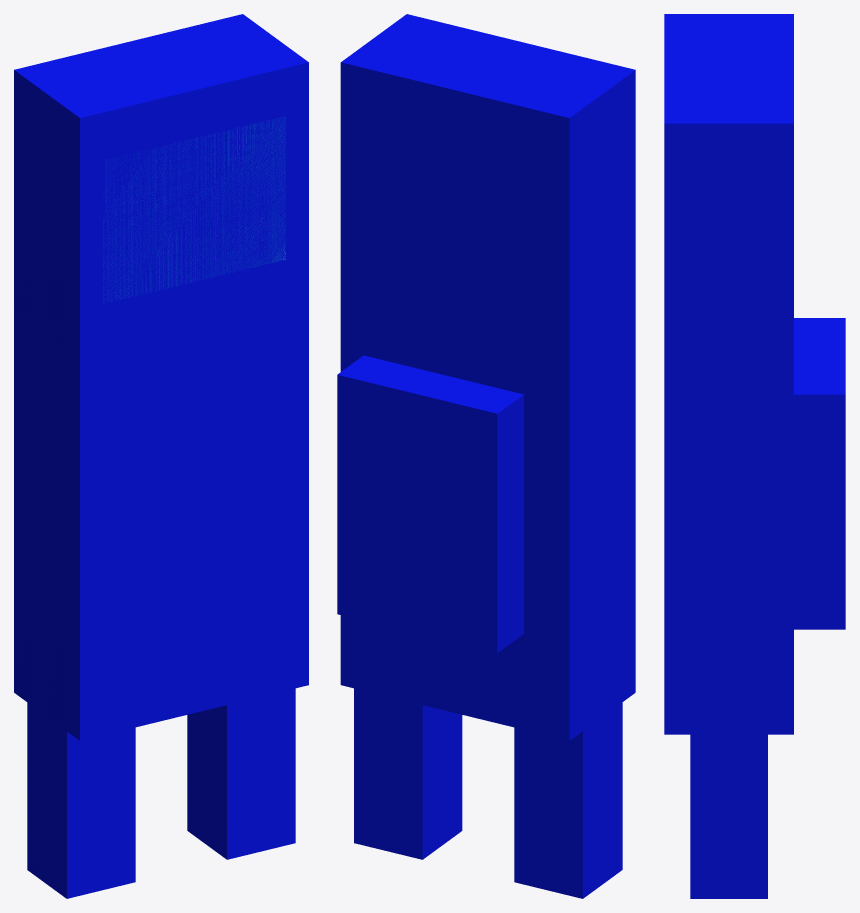
The model's file is Among Us Char(Blue).gltf.
The picture shows the model from 3 angles, left to right: view 1: azimuth 30°, elevation 25°; view 2: azimuth 150°, elevation 25°; view 3: azimuth 270°, elevation 25°; orthographic projection.
Visible parts, largest first — view 1: 05df4ede-f837-c188-2e33-ef64abd97eee, cc3eb372-91fc-9da0-78a3-6f8f9a1f2dee, 3fa73543-9e25-d95c-6e87-302f2be02166, 2d3a24b5-ea57-e50f-346a-9413c0539ccd, 9b6c5594-3cbf-47c0-bc0a-358ef91bbe2c; view 2: cc3eb372-91fc-9da0-78a3-6f8f9a1f2dee, 05df4ede-f837-c188-2e33-ef64abd97eee, 5496d620-28b4-4bca-3728-1c5a1bee6332, 3fa73543-9e25-d95c-6e87-302f2be02166, 2d3a24b5-ea57-e50f-346a-9413c0539ccd; view 3: 05df4ede-f837-c188-2e33-ef64abd97eee, cc3eb372-91fc-9da0-78a3-6f8f9a1f2dee, 5496d620-28b4-4bca-3728-1c5a1bee6332, 2d3a24b5-ea57-e50f-346a-9413c0539ccd.
Boxes of the visible parts, box(x1,y1,x2,y2) form: 05df4ede-f837-c188-2e33-ef64abd97eee: box(14, 302, 308, 740); cc3eb372-91fc-9da0-78a3-6f8f9a1f2dee: box(14, 14, 308, 357); 3fa73543-9e25-d95c-6e87-302f2be02166: box(27, 702, 135, 898); 2d3a24b5-ea57-e50f-346a-9413c0539ccd: box(187, 688, 295, 859); 9b6c5594-3cbf-47c0-bc0a-358ef91bbe2c: box(103, 116, 285, 303); cc3eb372-91fc-9da0-78a3-6f8f9a1f2dee: box(340, 14, 635, 357); 05df4ede-f837-c188-2e33-ef64abd97eee: box(340, 302, 635, 740); 5496d620-28b4-4bca-3728-1c5a1bee6332: box(337, 355, 523, 653); 3fa73543-9e25-d95c-6e87-302f2be02166: box(514, 702, 622, 898); 2d3a24b5-ea57-e50f-346a-9413c0539ccd: box(354, 688, 462, 859); 05df4ede-f837-c188-2e33-ef64abd97eee: box(664, 358, 793, 734); cc3eb372-91fc-9da0-78a3-6f8f9a1f2dee: box(664, 14, 793, 358); 5496d620-28b4-4bca-3728-1c5a1bee6332: box(794, 318, 845, 629); 2d3a24b5-ea57-e50f-346a-9413c0539ccd: box(690, 734, 767, 898).
Size of the model in its own units: 0.625 by 2.06 by 0.4375.
4 materials, 4 textured.
